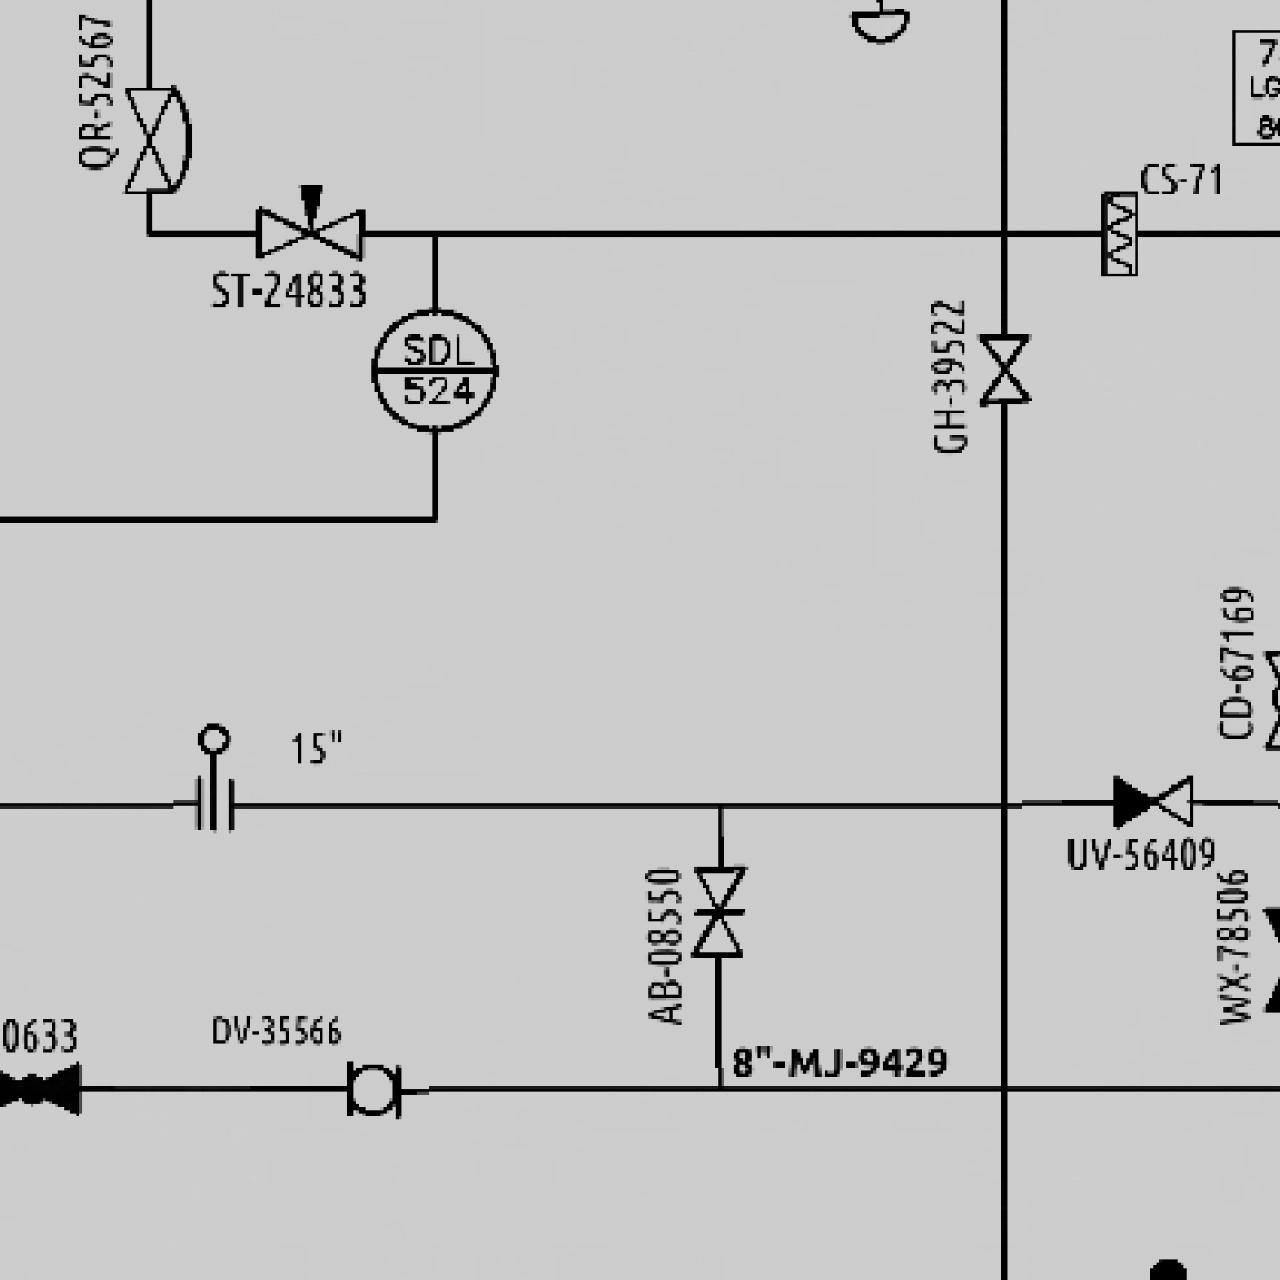Half closed valve: (1109, 770, 1196, 831)
